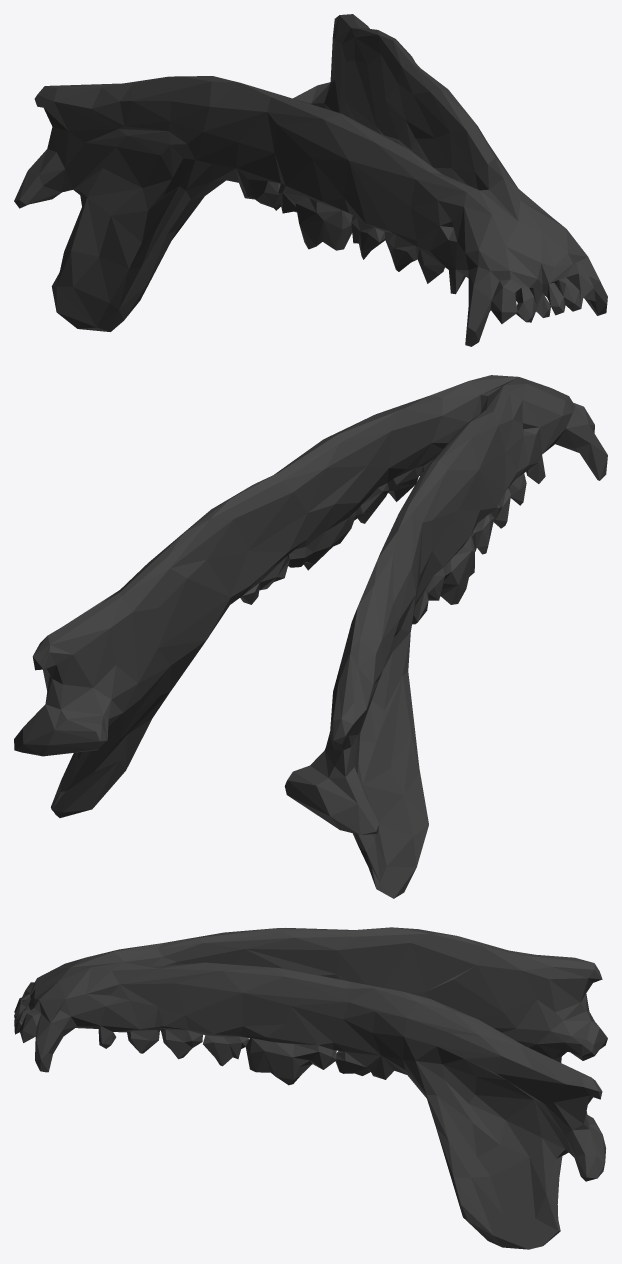
The model's file is Mandible.glb.
The picture shows the model from 3 angles, top to bottom: view 1: azimuth 30°, elevation 25°; view 2: azimuth 150°, elevation 25°; view 3: azimuth 270°, elevation 25°; orthographic projection. The views are drawn at different scales.
Parts seen in each view (by area): view 1: Mandible; view 2: Mandible; view 3: Mandible.
Part boxes in pixels (x1=…): Mandible: x1=14, y1=14, x2=607, y2=346; Mandible: x1=14, y1=375, x2=607, y2=898; Mandible: x1=14, y1=927, x2=607, y2=1249.
Size of the model in its own units: 0.00264 by 0.00205 by 0.00463.
Materials: 1 (1 with a texture image).
